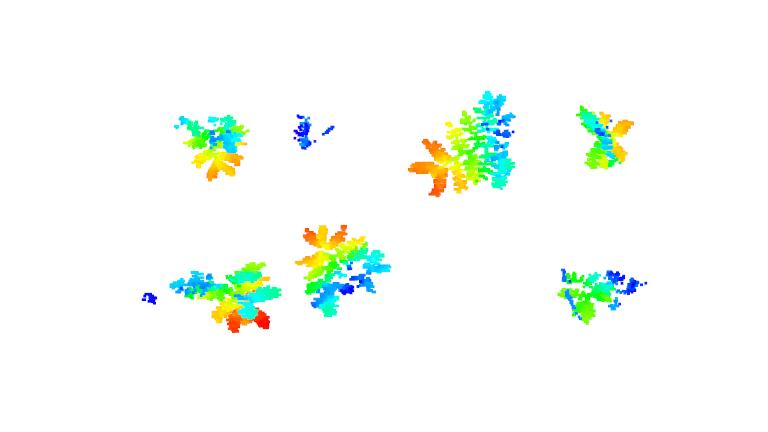chickpea: (404, 89, 520, 200), (293, 222, 394, 319), (168, 258, 285, 337), (558, 263, 646, 327), (172, 112, 253, 181), (575, 102, 636, 171)
